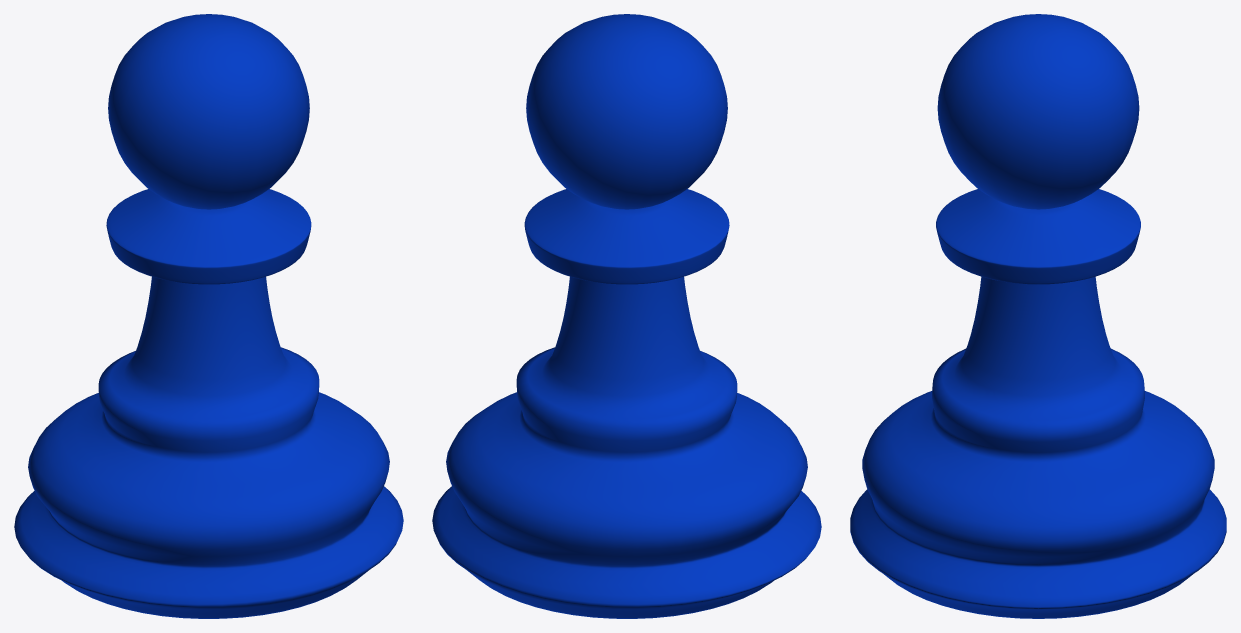
The model's file is blue_pawn_hop.fbx.
The picture shows the model from 3 angles, left to right: view 1: azimuth 30°, elevation 25°; view 2: azimuth 150°, elevation 25°; view 3: azimuth 270°, elevation 25°; orthographic projection.
Parts seen in each view (by area): view 1: Pawn_blue; view 2: Pawn_blue; view 3: Pawn_blue.
Boxes of the visible parts, x1,y1,x2,y2 form: Pawn_blue: [14, 14, 403, 618]; Pawn_blue: [432, 14, 821, 618]; Pawn_blue: [850, 14, 1226, 618].
Size of the model in its own units: 1.94 by 2.86 by 1.86.
